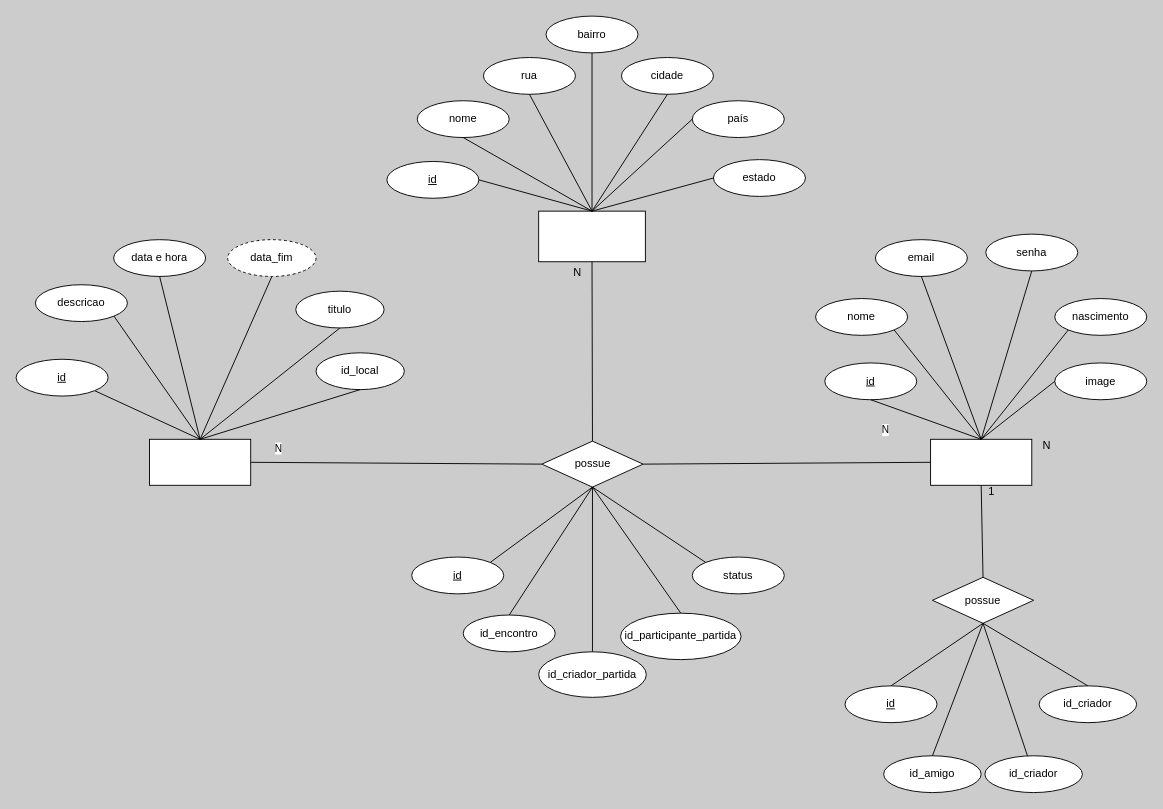
Some shapes in this 1163 by 809 pixel diagram are drawn without their labels. The centre of each missing label's shape, as x and y in pixels:
"encontro" belongs at pixel 200 461.
"local" belongs at pixel 591 236.
"usuario" belongs at pixel 981 461.
